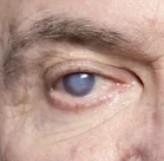eye: (62, 72, 95, 98)
